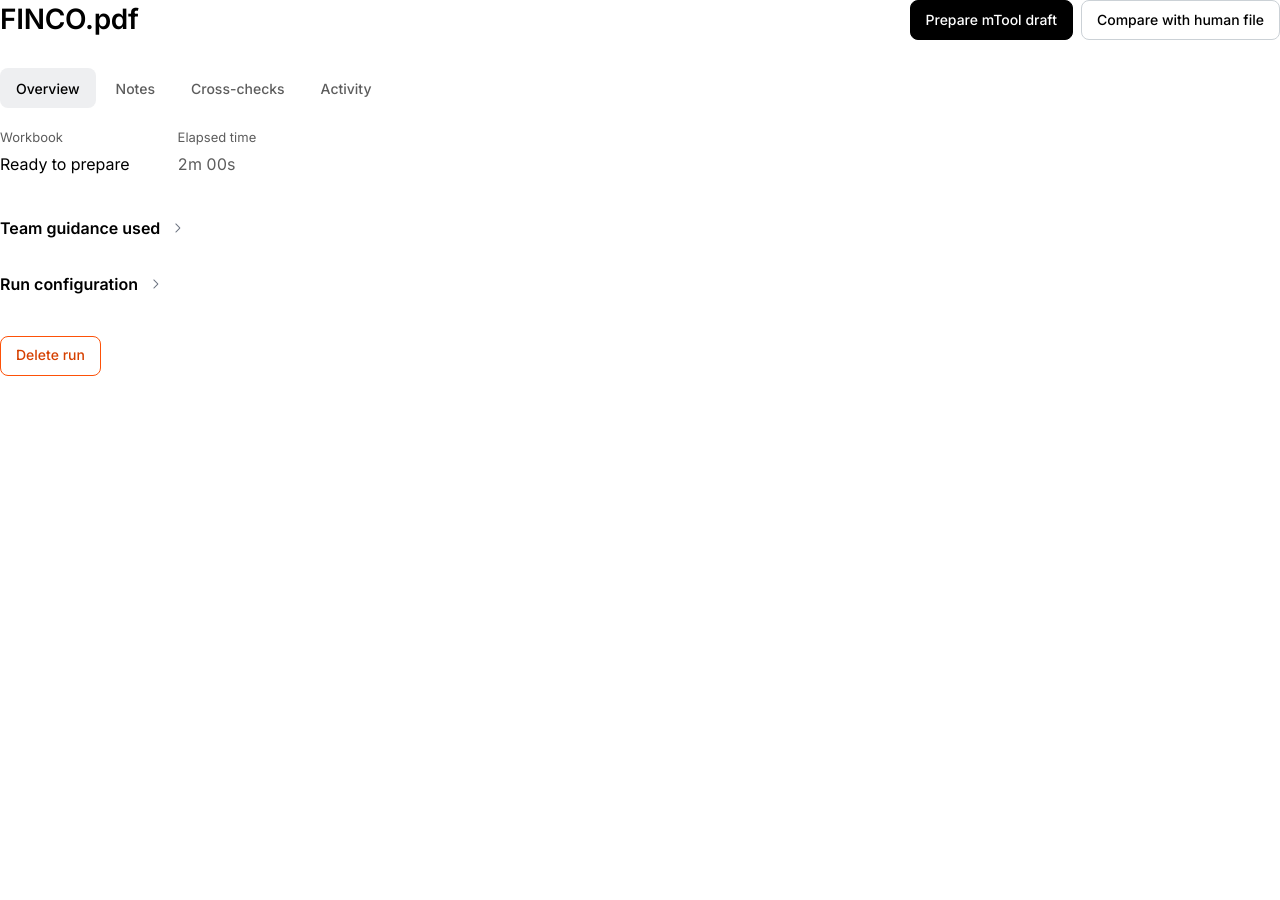
Test: RunDetailView mTool button › button opens the modal on a completed run
Step 1. Click the button "Prepare mTool draft" → point(991, 20), box [910, 0, 1073, 40]
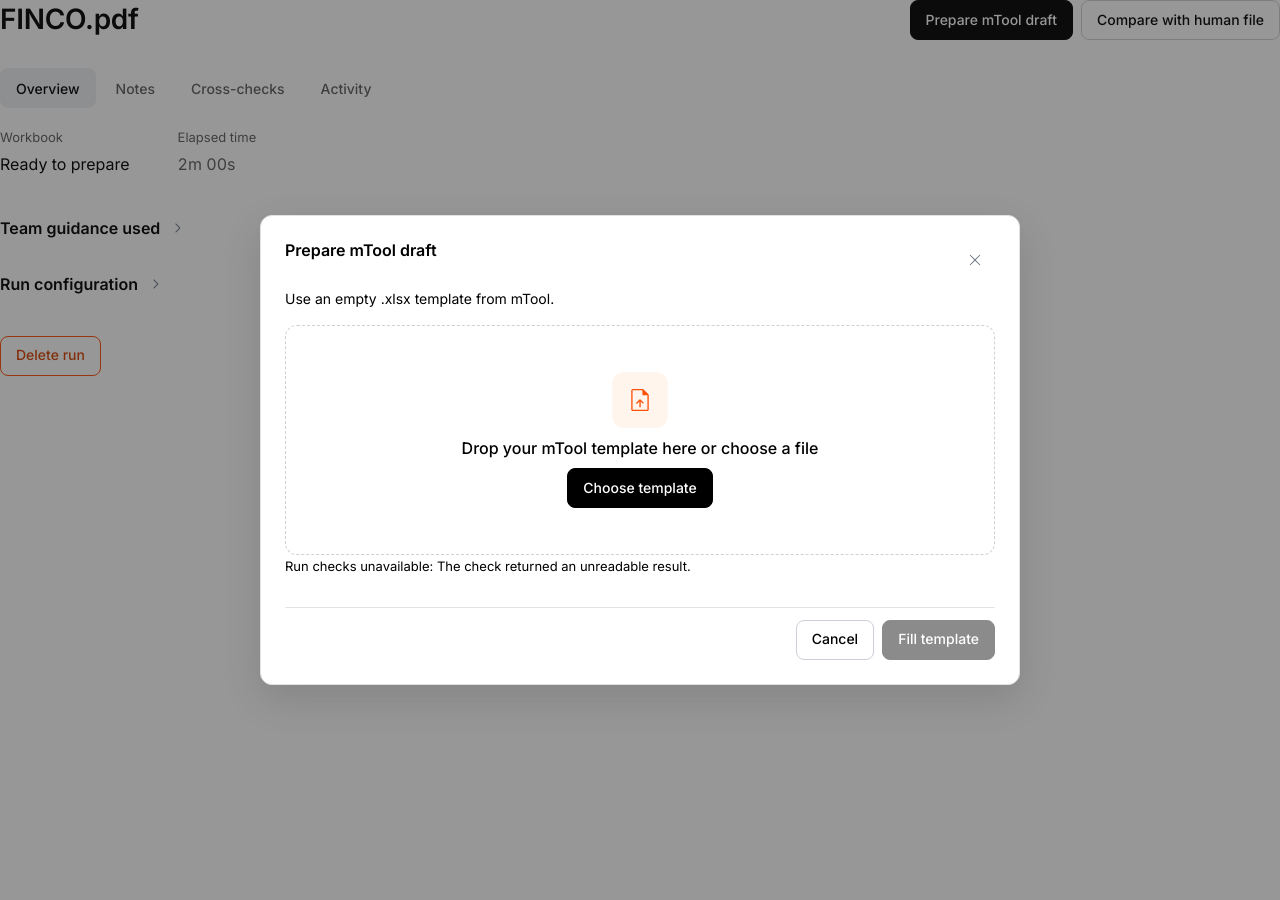
Expected: the element named "mtool template file" is shown, [285, 325, 995, 591]
